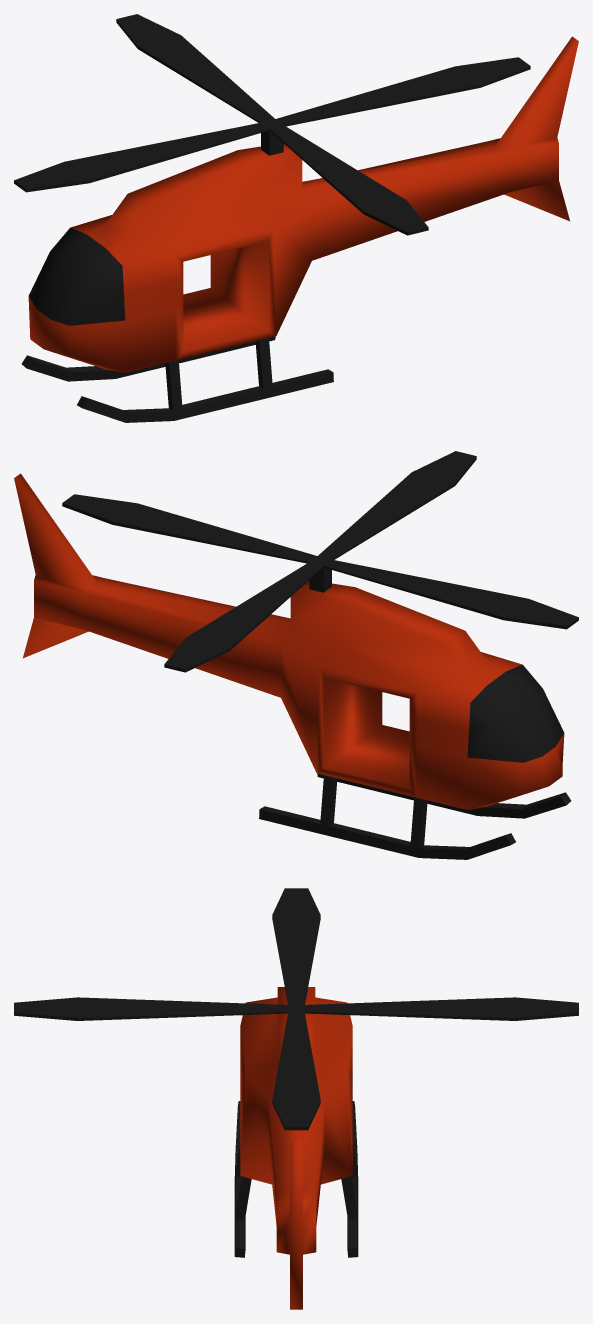
The model's file is Heli.fbx.
3 renders of one model, top to bottom at view 1: azimuth 30°, elevation 25°; view 2: azimuth 150°, elevation 25°; view 3: azimuth 270°, elevation 25°, orthographic. The views are drawn at different scales.
Parts seen in each view (by area): view 1: Heli, Prop; view 2: Heli, Prop; view 3: Heli, Prop.
Boxes of the visible parts, box(x1,y1,x2,y2) form: Heli: box(21, 36, 578, 422); Prop: box(14, 14, 530, 235); Heli: box(14, 473, 571, 859); Prop: box(62, 451, 578, 672); Heli: box(234, 987, 358, 1309); Prop: box(14, 888, 578, 1130).
Size of the model in its own units: 1105 by 483 by 1004.
